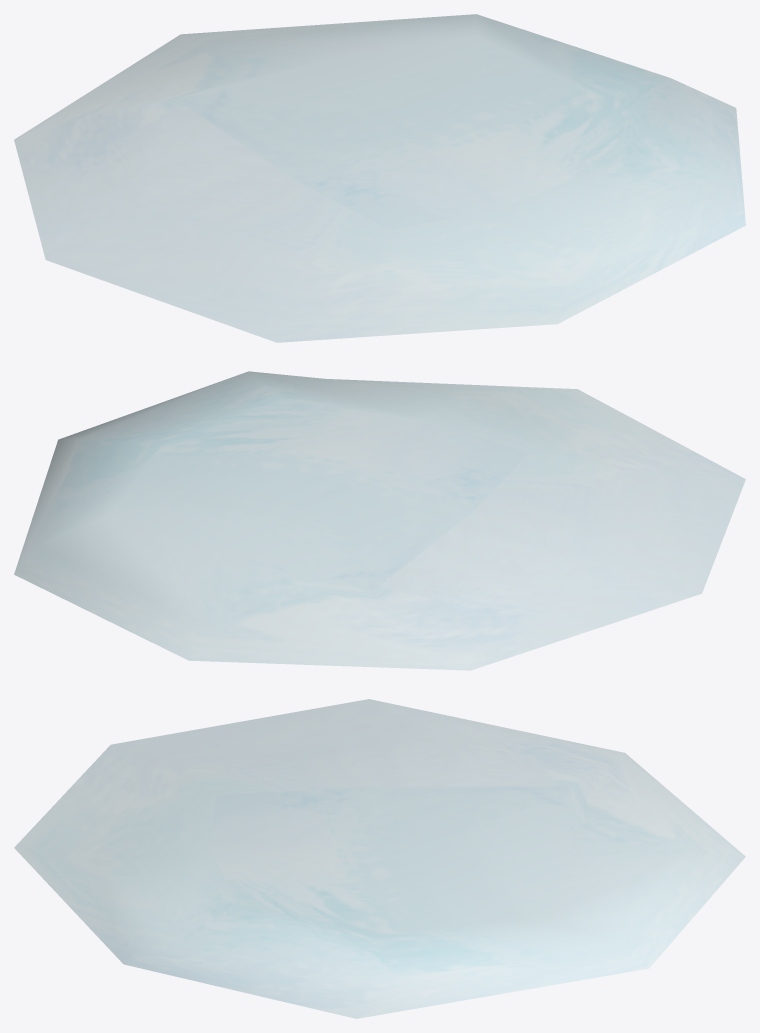
The model's file is SnowMound_03.fbx.
The picture shows the model from 3 angles, top to bottom: view 1: azimuth 30°, elevation 25°; view 2: azimuth 150°, elevation 25°; view 3: azimuth 270°, elevation 25°; orthographic projection. The views are drawn at different scales.
Parts seen in each view (by area): view 1: SnowMound.002; view 2: SnowMound.002; view 3: SnowMound.002.
Boxes of the visible parts, x1,y1,x2,y2 form: SnowMound.002: (14,14,745,342); SnowMound.002: (14,371,745,670); SnowMound.002: (14,699,745,1018).
Size of the model in its own units: 361 by 20.77 by 359.
